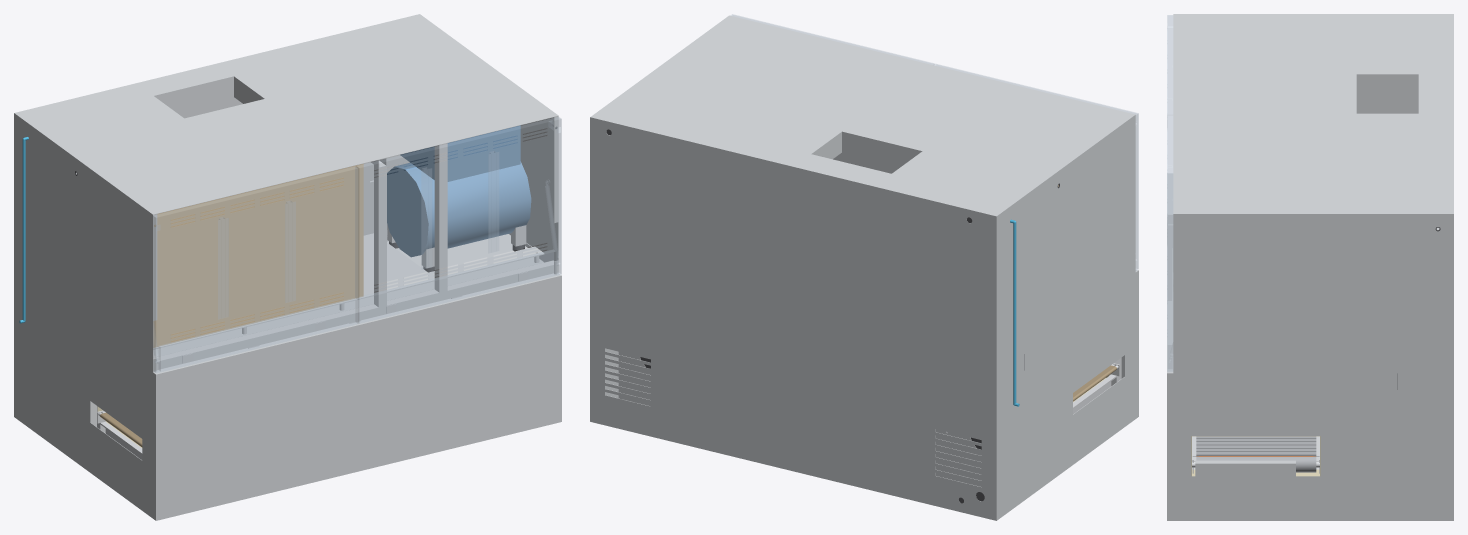
The model's file is modul_D.glb.
The picture shows the model from 3 angles, left to right: view 1: azimuth 30°, elevation 25°; view 2: azimuth 150°, elevation 25°; view 3: azimuth 270°, elevation 25°; orthographic projection.
Parts seen in each view (by area): view 1: F_UST_KABIN__sac, F_TP10_GOVDE__sac, F_UST_KAPAK__on_seffaf__KAPAK_F_SOL, F_UST_KAPAK__on_seffaf__KAPAK_F_SAG, D_PIZZA_YEDEK_UST, HAVA_KOMPRESOR__kompresor, F_UST_KABIN__paslanmaz, F_UST_RAF__sac, F_DAVLUMBAZ__sac, F_KOMP_AYAK__paslanmaz, HAVA_KOMPRESOR__hava_ana; view 2: F_UST_KABIN__sac, F_TP10_GOVDE__sac, F_DAVLUMBAZ__sac, F_UST_KAPAK__on_seffaf__KAPAK_F_SOL, HAVA_KOMPRESOR__hava_ana; view 3: F_UST_KABIN__sac, F_TP10_GOVDE__sac, F_TP10_KONVEYOR__tel_bant, F_DAVLUMBAZ__sac, F_UST_KAPAK__on_seffaf__KAPAK_F_SAG, F_CIKIS_PLAKA__sac, F_TP10_KONVEYOR__tel_bant__RULO_TP_CIKIS, F_UST_KAPAK__on_seffaf__KAPAK_F_SOL, F_TP10_GOVDE__yalitim.
Part boxes in pixels (x1,y1,x2,y2): F_UST_KABIN__sac: [14, 14, 558, 436]; F_TP10_GOVDE__sac: [42, 273, 561, 520]; F_UST_KAPAK__on_seffaf__KAPAK_F_SOL: [153, 166, 358, 373]; F_UST_KAPAK__on_seffaf__KAPAK_F_SAG: [356, 117, 561, 323]; D_PIZZA_YEDEK_UST: [153, 163, 363, 347]; HAVA_KOMPRESOR__kompresor: [387, 125, 531, 257]; F_UST_KABIN__paslanmaz: [153, 143, 553, 369]; F_UST_RAF__sac: [153, 230, 544, 357]; F_DAVLUMBAZ__sac: [76, 77, 409, 235]; F_KOMP_AYAK__paslanmaz: [387, 233, 531, 268]; HAVA_KOMPRESOR__hava_ana: [19, 137, 28, 323]; F_UST_KABIN__sac: [590, 15, 1135, 520]; F_TP10_GOVDE__sac: [618, 269, 1138, 499]; F_DAVLUMBAZ__sac: [812, 132, 921, 173]; F_UST_KAPAK__on_seffaf__KAPAK_F_SOL: [934, 64, 1138, 270]; HAVA_KOMPRESOR__hava_ana: [1010, 219, 1019, 406]; F_UST_KABIN__sac: [1173, 14, 1453, 520]; F_TP10_GOVDE__sac: [1167, 173, 1397, 520]; F_TP10_KONVEYOR__tel_bant: [1196, 436, 1316, 456]; F_DAVLUMBAZ__sac: [1356, 74, 1439, 229]; F_UST_KAPAK__on_seffaf__KAPAK_F_SAG: [1167, 115, 1173, 371]; F_CIKIS_PLAKA__sac: [1195, 460, 1295, 476]; F_TP10_KONVEYOR__tel_bant__RULO_TP_CIKIS: [1196, 457, 1316, 472]; F_UST_KAPAK__on_seffaf__KAPAK_F_SOL: [1167, 15, 1173, 115]; F_TP10_GOVDE__yalitim: [1191, 436, 1320, 476].
Size of the model in its own units: 1.55 by 1.07 by 0.909.
